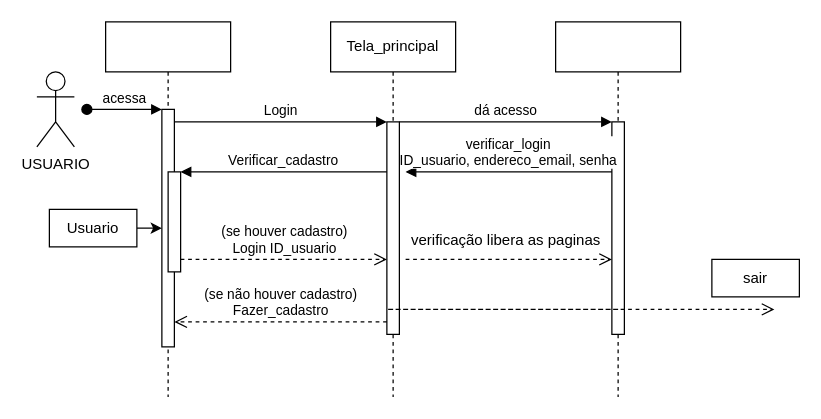
Some shapes in this 821 by 419 pixel diagram are drawn without their labels. Each missing label, with the box of its shape:
Acesso_para_ outras_paginas: (554, 21, 681, 397)
Tela_inicial: (104, 21, 231, 397)
